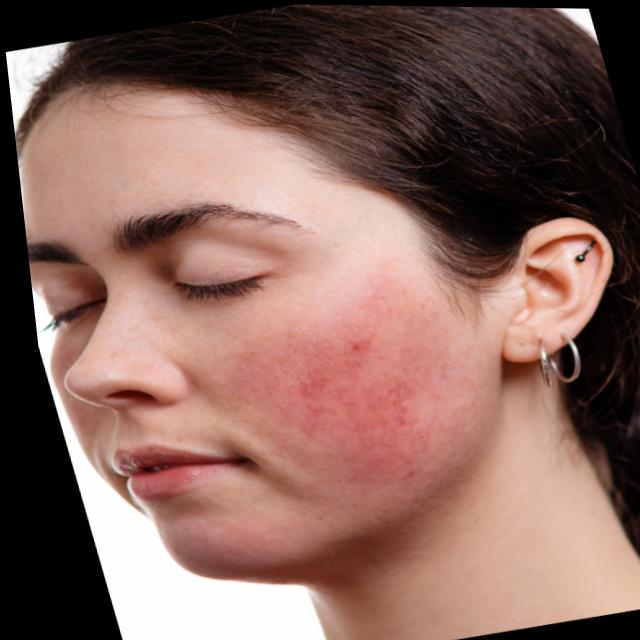skinredness: (236, 295, 465, 507)
